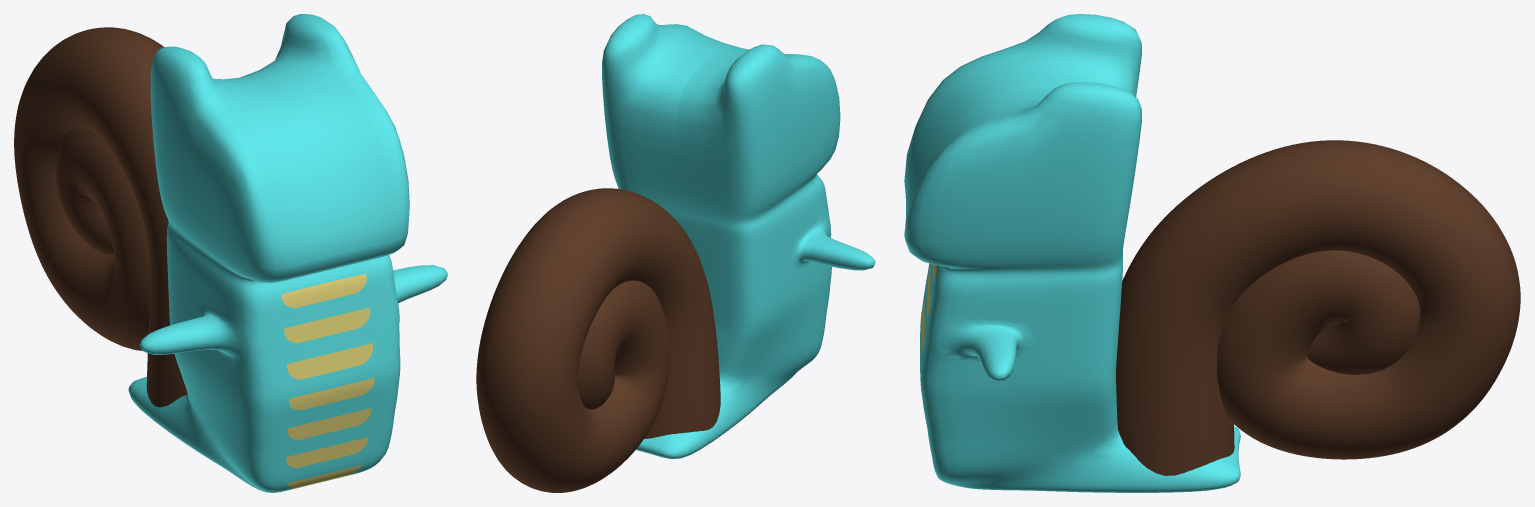
Rendered from ShellDooms.fbx.
3 views of the same model, side by side, from view 1: azimuth 30°, elevation 25°; view 2: azimuth 150°, elevation 25°; view 3: azimuth 270°, elevation 25° (orthographic). The views are drawn at different scales.
Visible parts, largest first — view 1: Cube.010, NurbsPath.005; view 2: Cube.010, NurbsPath.005; view 3: NurbsPath.005, Cube.010.
Part boxes in pixels (bbox=[...]): Cube.010: bbox=[128, 14, 447, 492]; NurbsPath.005: bbox=[14, 27, 187, 407]; Cube.010: bbox=[602, 14, 875, 458]; NurbsPath.005: bbox=[476, 188, 720, 492]; NurbsPath.005: bbox=[1116, 140, 1520, 475]; Cube.010: bbox=[904, 14, 1240, 492].
Bounding box in the file's own units: 325 × 408 × 546.
